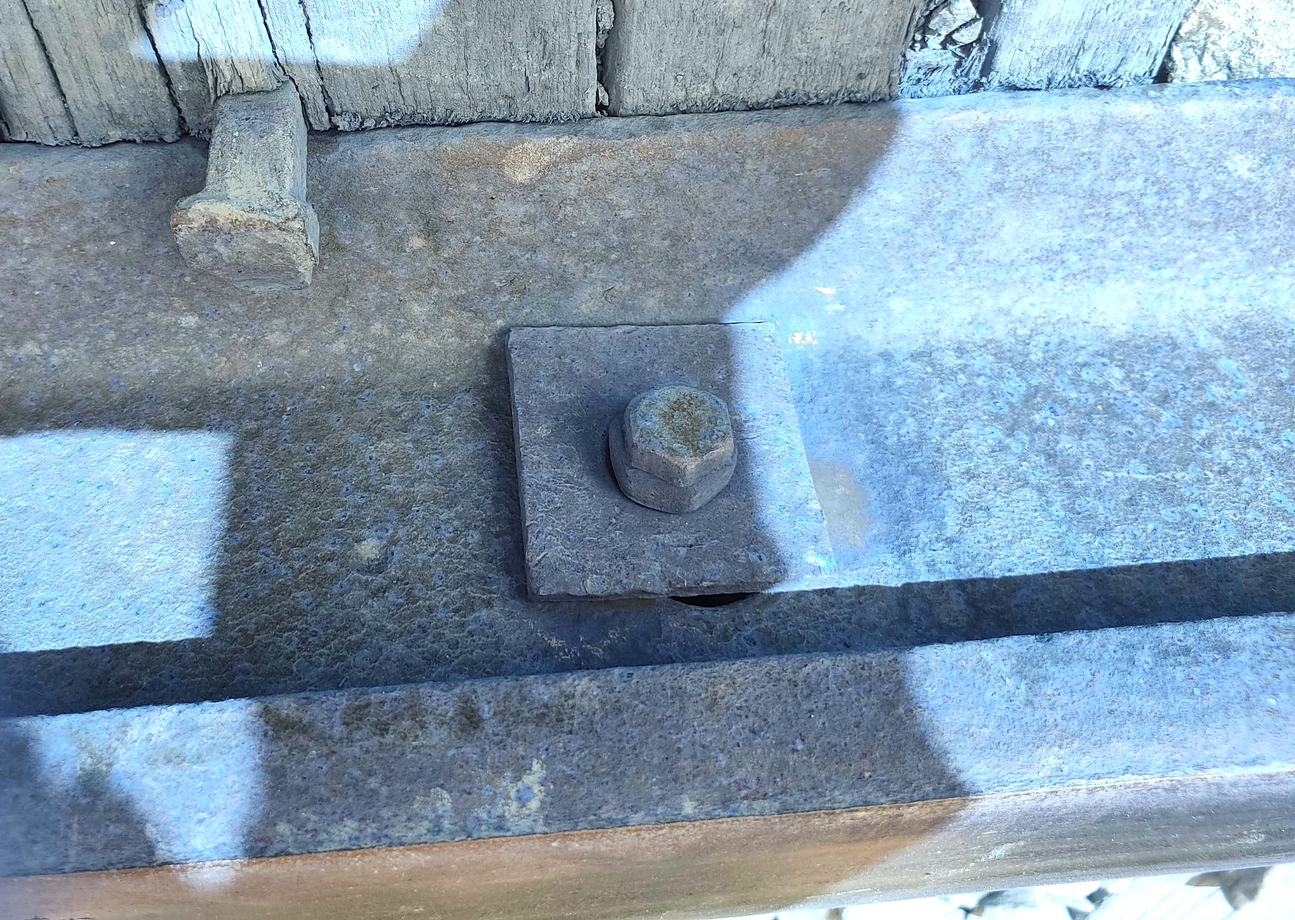loss2: (915, 6, 998, 87)
